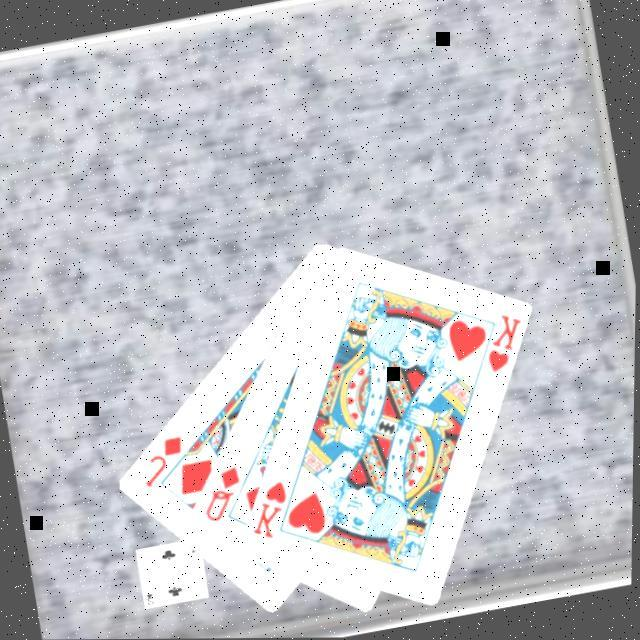JD: (134, 433, 192, 493)
KH: (240, 478, 298, 548), (476, 311, 532, 380)
QD: (194, 464, 250, 528)
